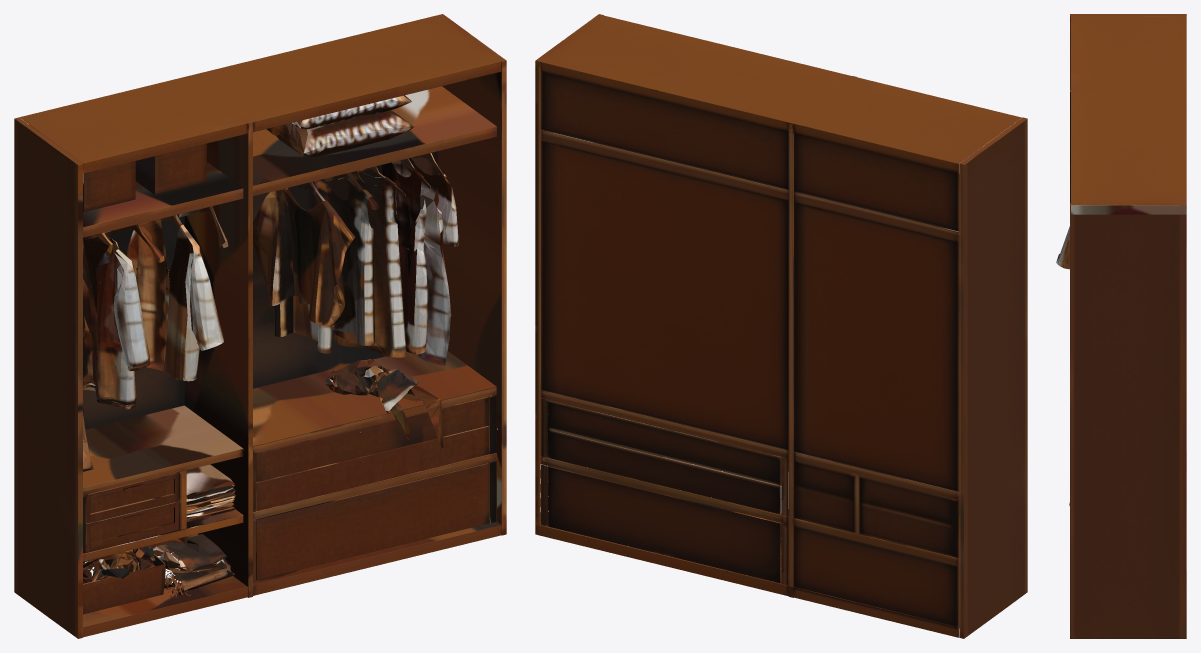
Rendered from edited_mesh.glb.
The picture shows the model from 3 angles, left to right: view 1: azimuth 30°, elevation 25°; view 2: azimuth 150°, elevation 25°; view 3: azimuth 270°, elevation 25°; orthographic projection. The views are drawn at different scales.
Visible parts, largest first — view 1: solid_001_wire; view 2: solid_001_wire; view 3: solid_001_wire.
Boxes of the visible parts, x1,y1,x2,y2 form: solid_001_wire: (14, 14, 506, 638); solid_001_wire: (535, 14, 1027, 638); solid_001_wire: (1056, 14, 1186, 638).
Bounding box in the file's own units: 1.28 × 1.36 × 0.3697.
1 material, 1 textured.
